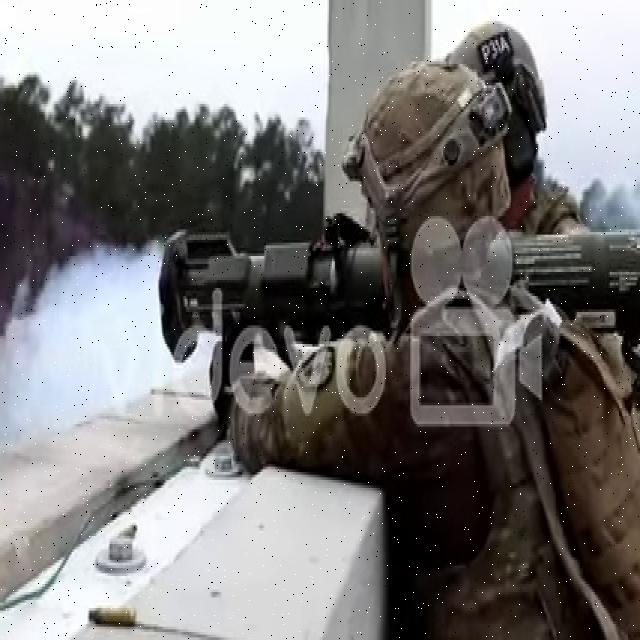bazooka: (153, 222, 640, 385)
